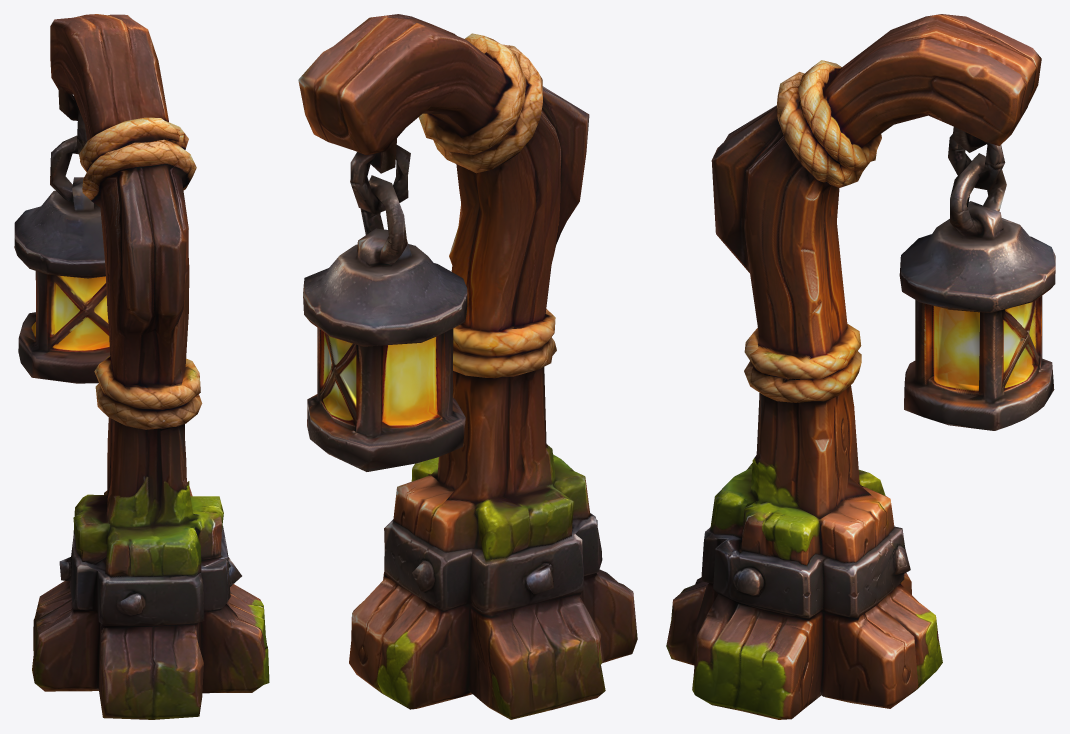
The model's file is Kit_W_LanternPost_raw.glb.
3 views of the same model, side by side, from view 1: azimuth 30°, elevation 25°; view 2: azimuth 150°, elevation 25°; view 3: azimuth 270°, elevation 25° (orthographic). The views are drawn at different scales.
Visible parts, largest first — view 1: tripo_node_c9faf8c7-9eaf-48f9-830a-c10f7540e7b2; view 2: tripo_node_c9faf8c7-9eaf-48f9-830a-c10f7540e7b2; view 3: tripo_node_c9faf8c7-9eaf-48f9-830a-c10f7540e7b2.
Part boxes in pixels (<box>): tripo_node_c9faf8c7-9eaf-48f9-830a-c10f7540e7b2: <box>14,14,269,719</box>; tripo_node_c9faf8c7-9eaf-48f9-830a-c10f7540e7b2: <box>298,14,637,719</box>; tripo_node_c9faf8c7-9eaf-48f9-830a-c10f7540e7b2: <box>666,14,1055,719</box>.
Bounding box in the file's own units: 0.3682 × 1 × 0.5371.
1 material, 1 textured.
